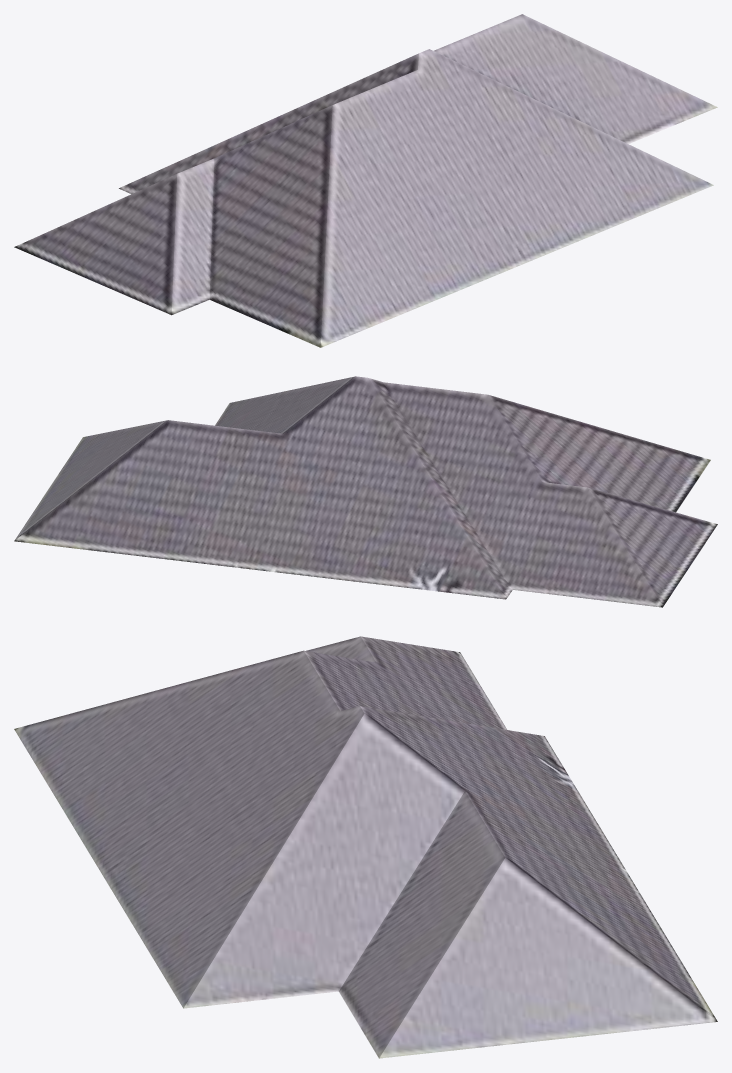
File: BK39_500_016029_0018_roof.obj
The picture shows the model from 3 angles, top to bottom: view 1: azimuth 30°, elevation 25°; view 2: azimuth 150°, elevation 25°; view 3: azimuth 270°, elevation 25°; orthographic projection. The views are drawn at different scales.
Visible parts, largest first — view 1: BK39_500_016029_0018_roof; view 2: BK39_500_016029_0018_roof; view 3: BK39_500_016029_0018_roof.
Part boxes in pixels (x1,y1,x2,y2): BK39_500_016029_0018_roof: (14,14,717,347); BK39_500_016029_0018_roof: (14,376,717,607); BK39_500_016029_0018_roof: (14,636,717,1058).
Size of the model in its own units: 366 by 70 by 268.
1 material, 1 textured.
